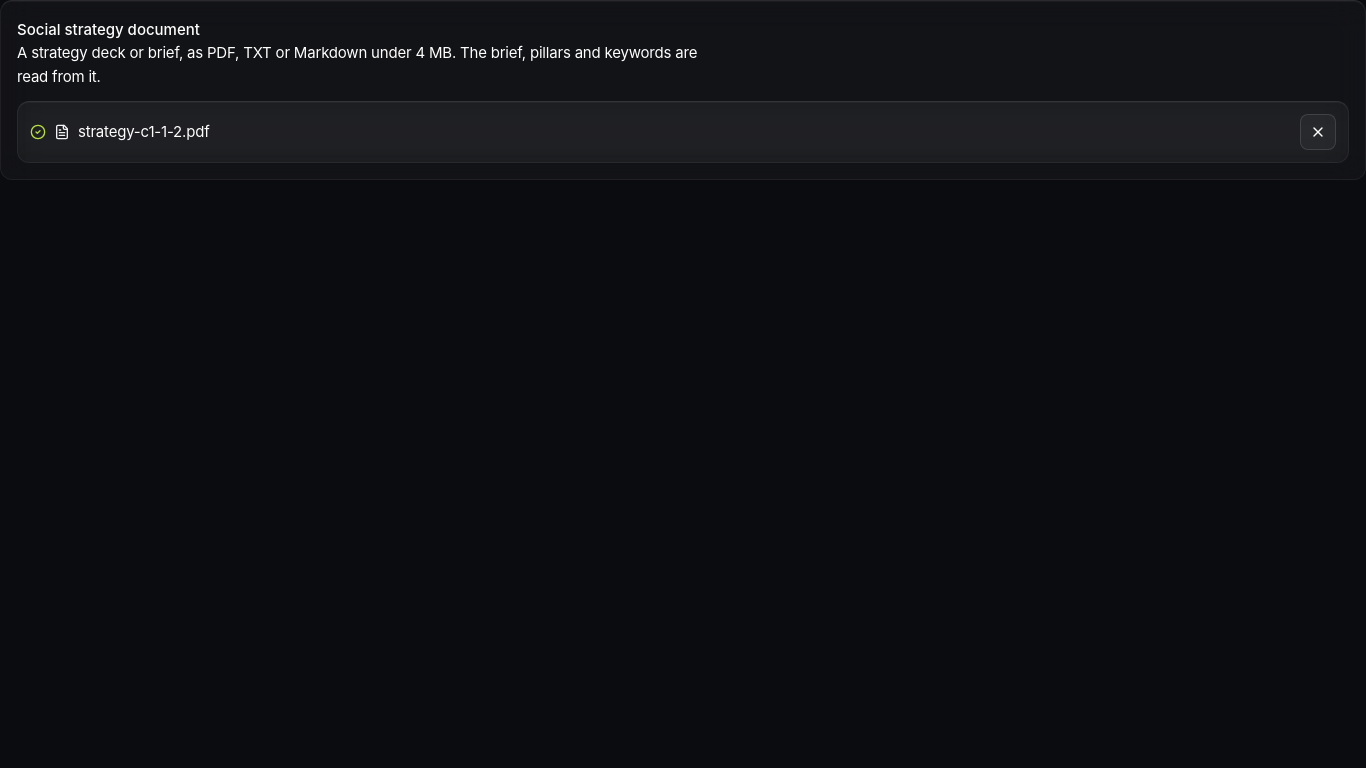
Scenario: P07-04 Remove the strategy document › closes the confirmation once Remove is chosen
Later steps or results of the test are not shown.
Click the button named "Remove the strategy document".
click(1318, 132)  # box [1300,114,1336,150]
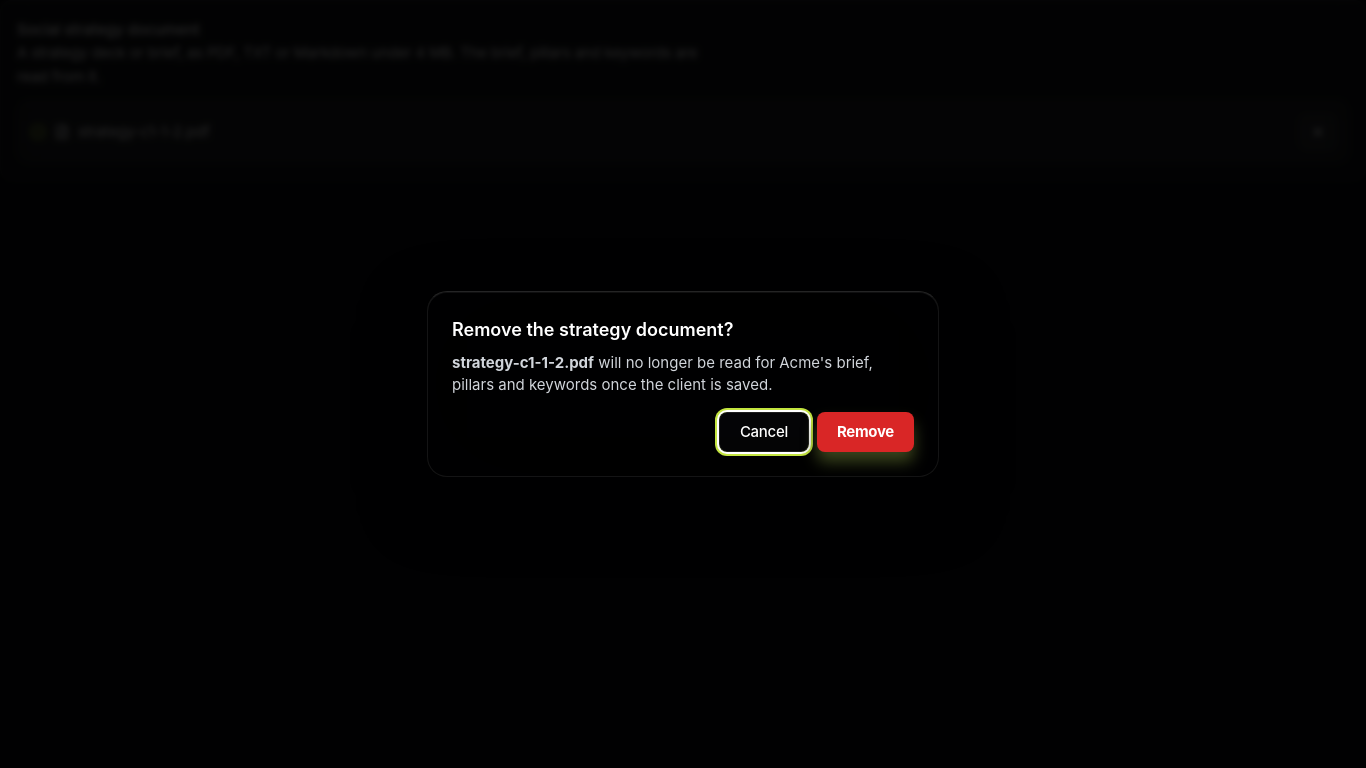
Click the button "Remove".
click(865, 432)  # box [817,412,914,452]
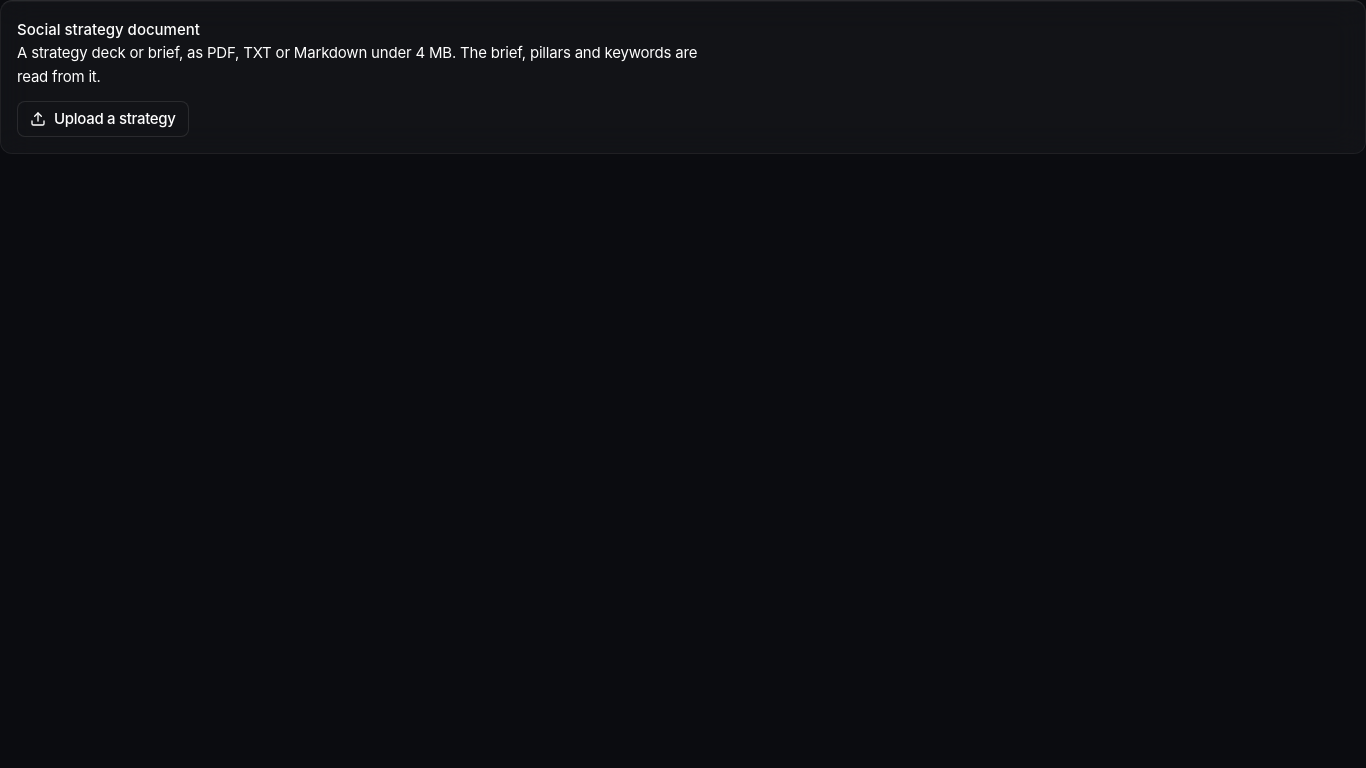
Expected: the text "Upload a strategy" is shown, [17,101,189,137]
Expected: the dialog is gone
